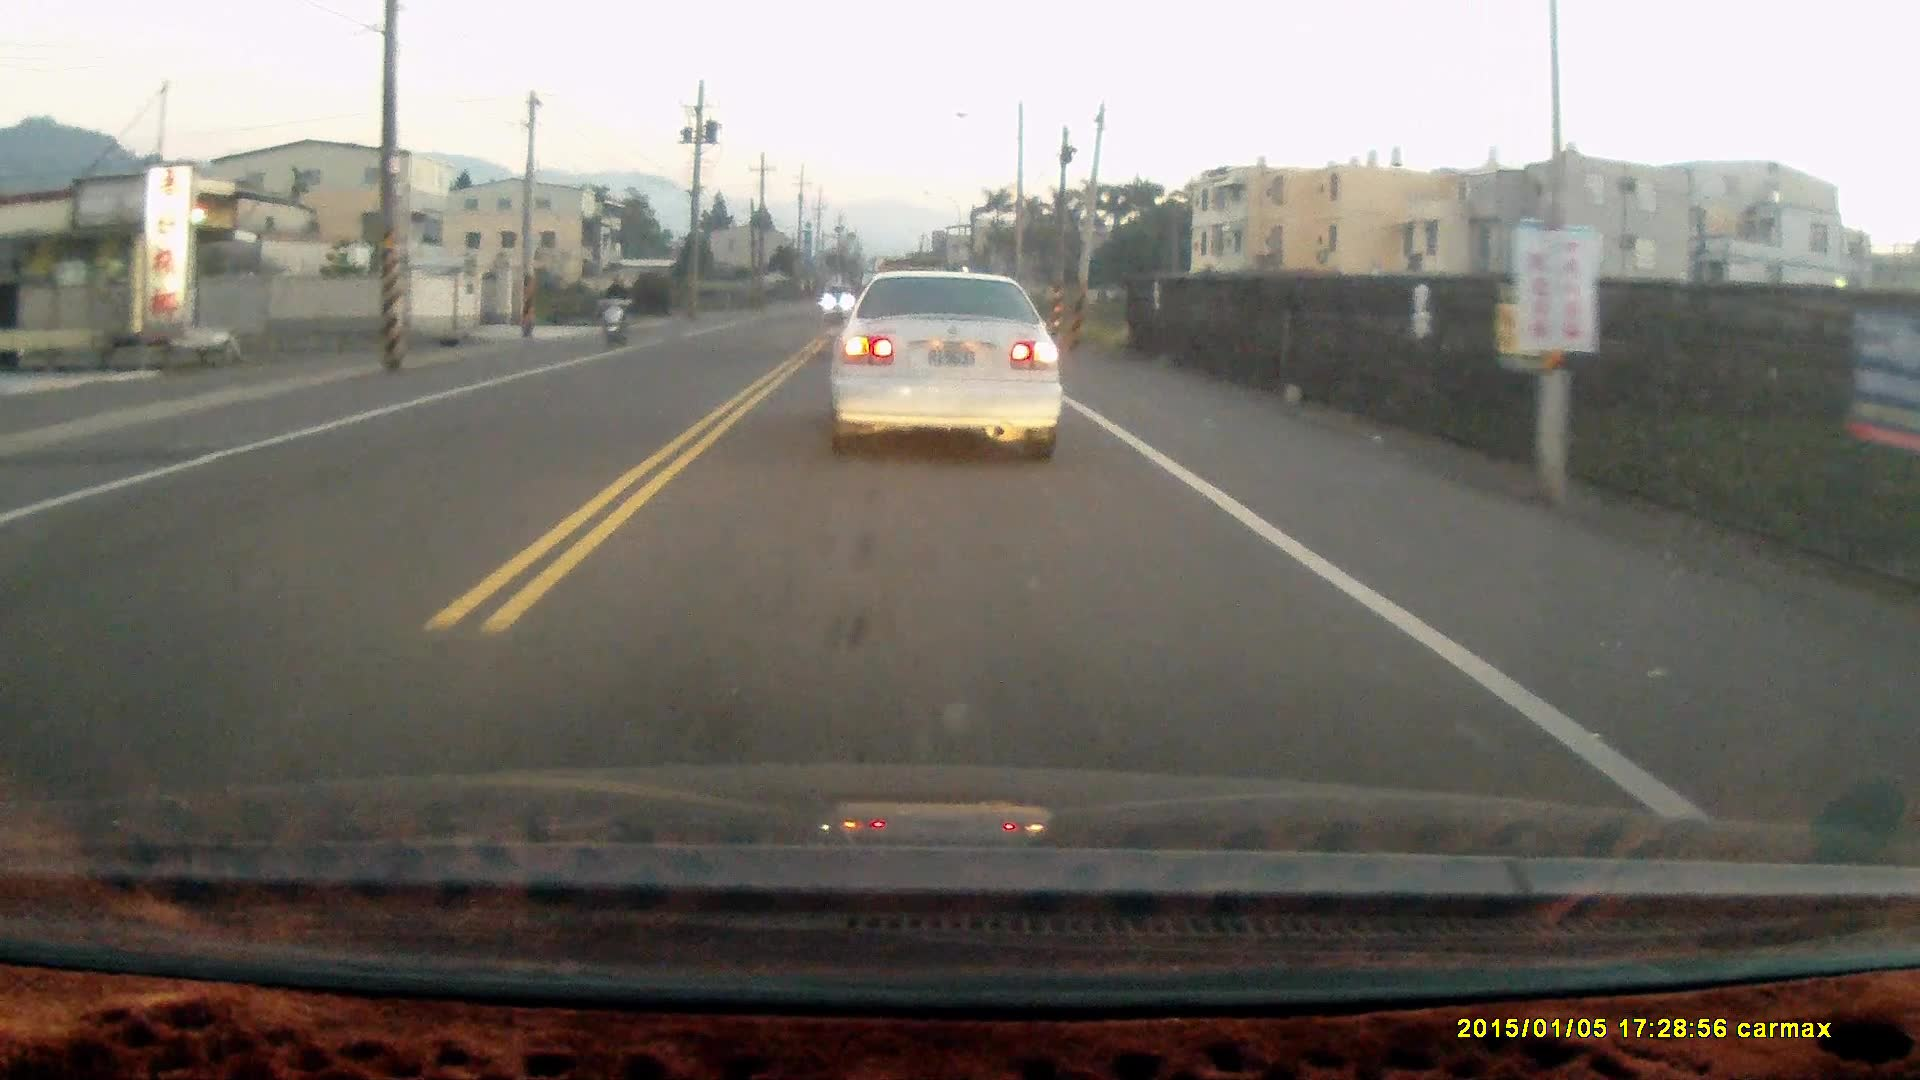rider: (594, 269, 629, 351)
vehicle: (827, 265, 1074, 465)
